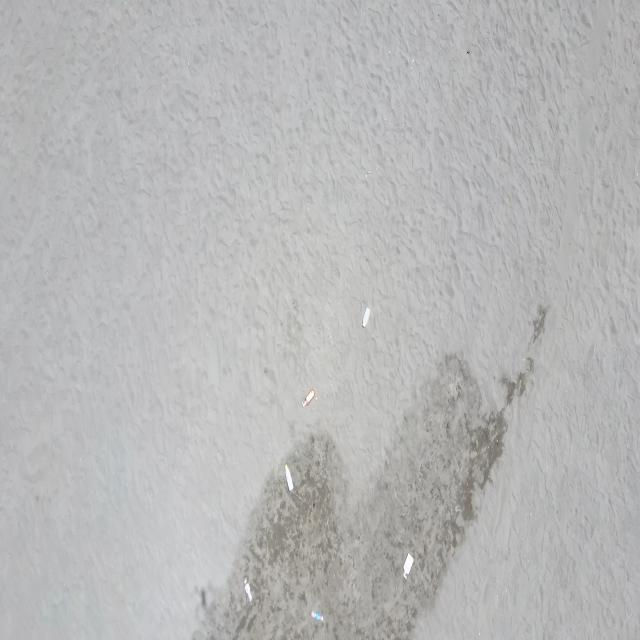plastic-bottle: (402, 552, 414, 580), (301, 388, 316, 408), (284, 463, 294, 492), (243, 578, 253, 603), (361, 306, 371, 328), (310, 609, 323, 622)
